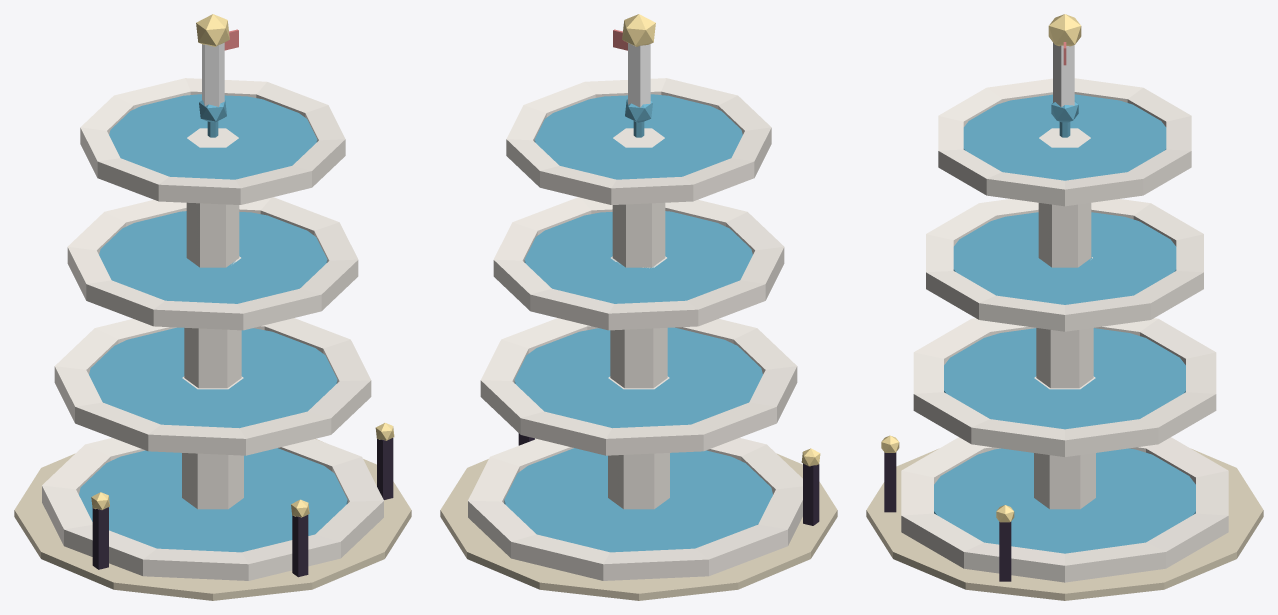
Rendered from park-g3.glb.
3 views of the same model, side by side, from view 1: azimuth 30°, elevation 25°; view 2: azimuth 150°, elevation 25°; view 3: azimuth 270°, elevation 25° (orthographic).
Visible parts, largest first — view 1: park-g3; view 2: park-g3; view 3: park-g3.
Part boxes in pixels (x1,y1,x2,y2): park-g3: (14, 14, 411, 600); park-g3: (440, 14, 837, 600); park-g3: (866, 14, 1263, 600).
Size of the model in its own units: 3 by 4.19 by 3.
